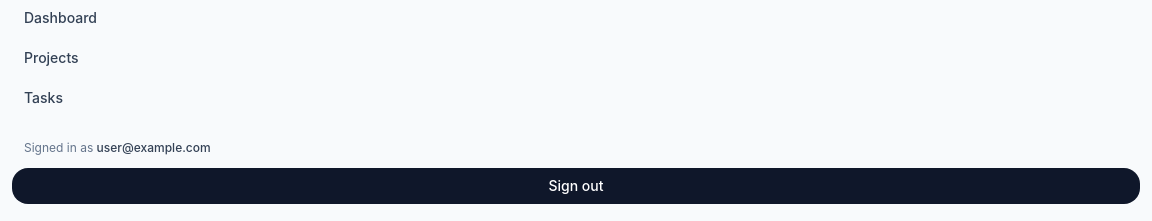
logout › clears authenticated UI state immediately after sign out
The width and height of the screenshot is (1152, 221).
Check: the text "user@example.com" is shown, box [97,140,211,155]
Click the button "Sign out".
click(576, 186)  # box [12,168,1140,204]
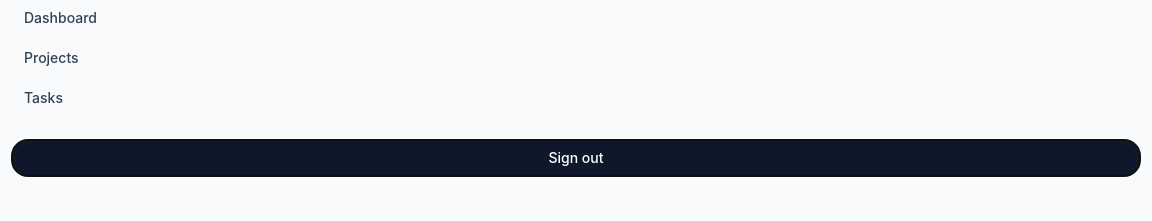
Check: the text "Signed in as" is gone
Check: the text "user@example.com" is gone
